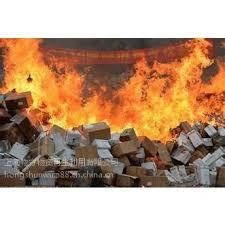fire: (31, 44, 225, 145)
